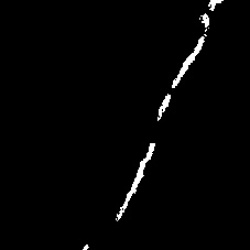crack: (117, 144, 156, 217), (171, 39, 203, 90), (156, 95, 172, 125), (209, 2, 225, 11), (199, 14, 210, 27)
pinhole: (82, 243, 92, 249)
